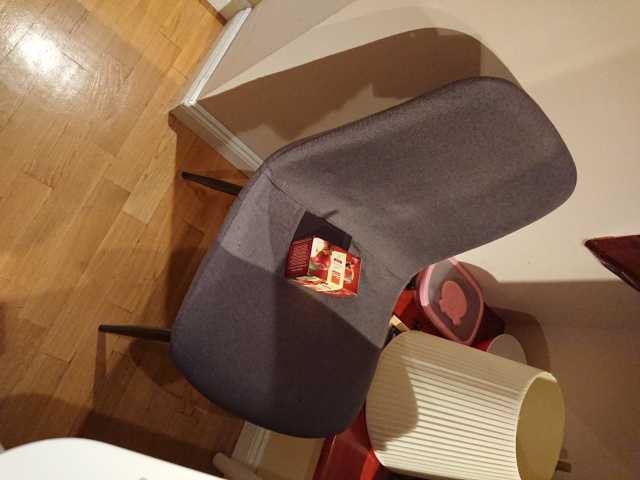Franck Apple Cinnamon Tea 60g: (282, 233, 364, 300)
